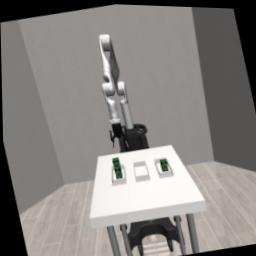cube1: (158, 157, 168, 172)
cube2: (111, 156, 120, 169)
cube3: (114, 166, 122, 178)
